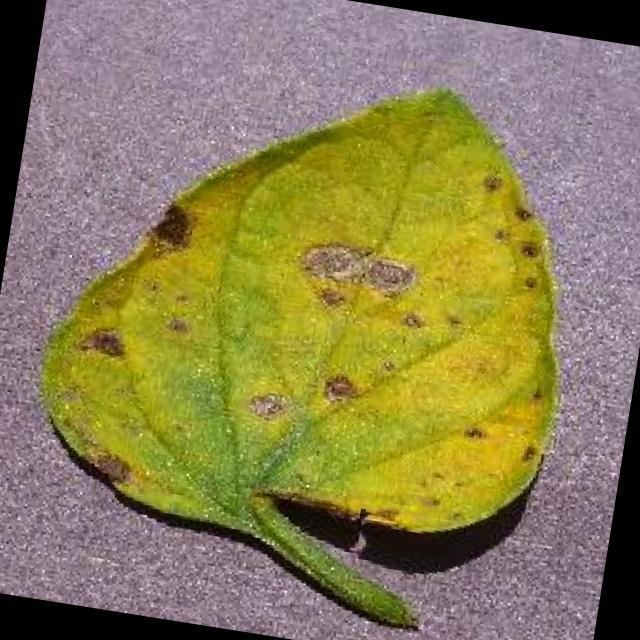Tomato Septoria spot leaf: (16, 34, 602, 590)
